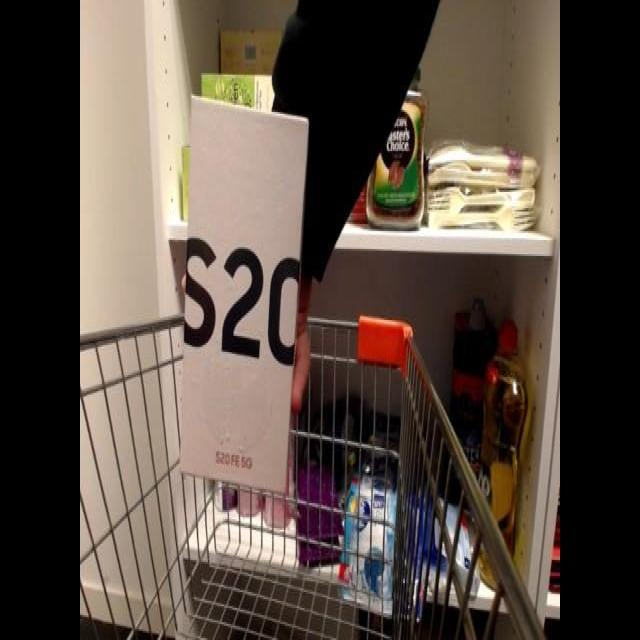Samsung S20: (172, 83, 316, 502)
